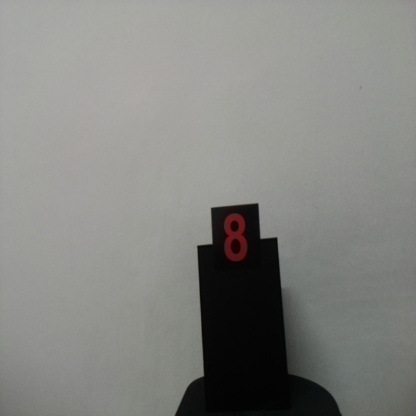id_8: (211, 208, 261, 275)
